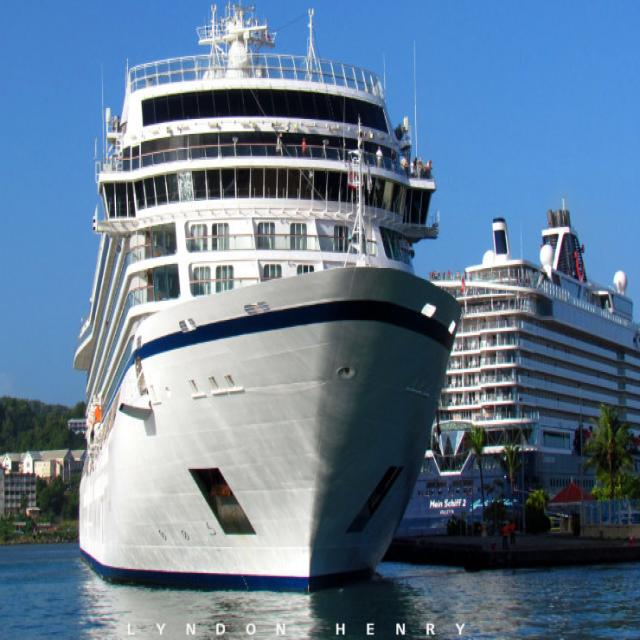cruises: (70, 6, 455, 596), (418, 201, 640, 499)
